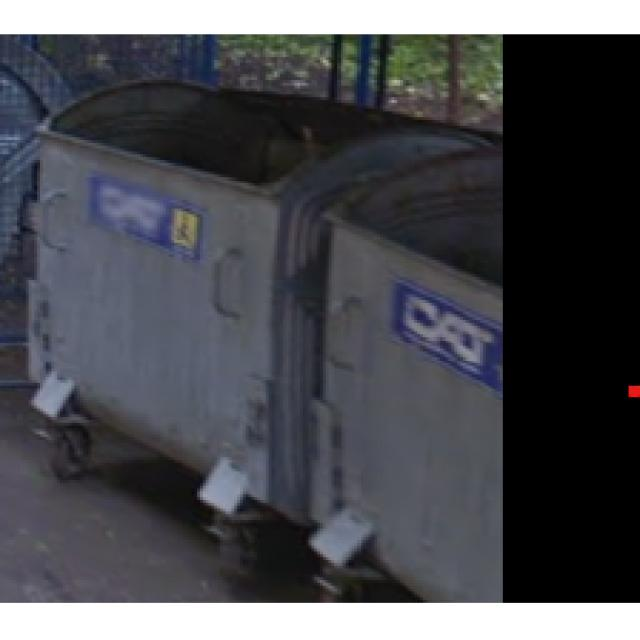general wastetrash bin: (38, 70, 305, 605)
